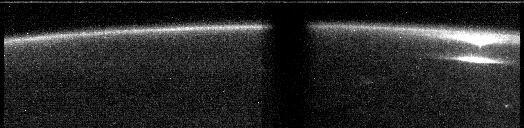negative: (451, 33, 503, 51)
